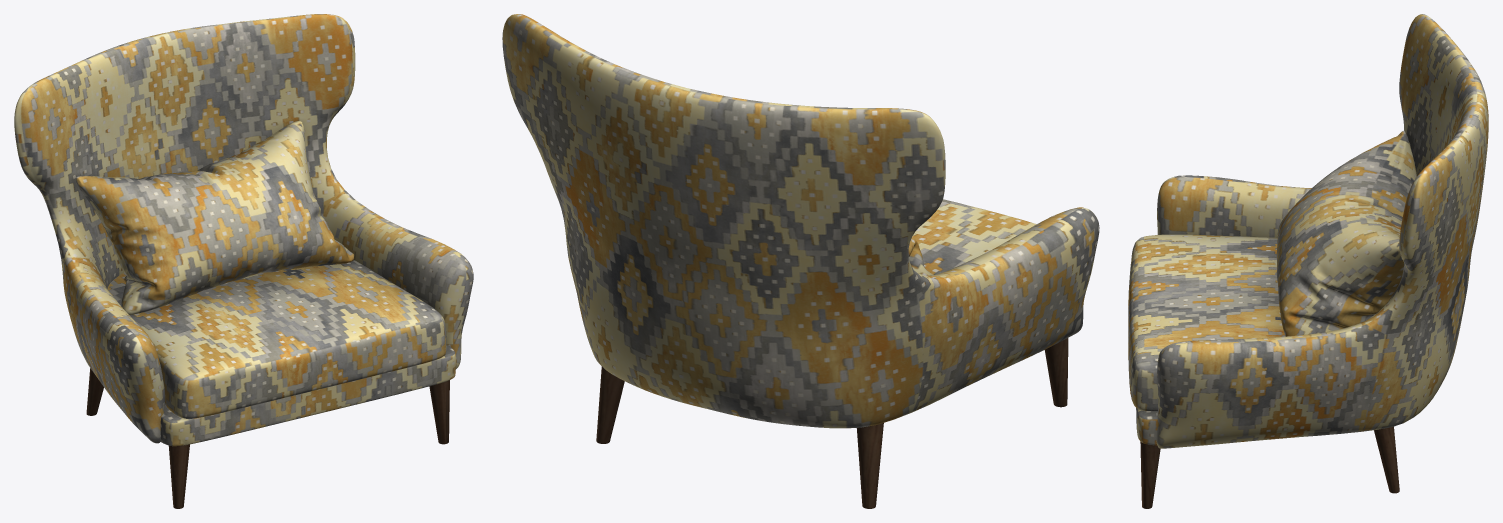
The model's file is sample3.glb.
3 views of the same model, side by side, from view 1: azimuth 30°, elevation 25°; view 2: azimuth 150°, elevation 25°; view 3: azimuth 270°, elevation 25° (orthographic). The views are drawn at different scales.
Parts seen in each view (by area): view 1: lambert1; view 2: lambert1; view 3: lambert1.
Boxes of the visible parts, x1,y1,x2,y2 form: lambert1: (14,14,473,508); lambert1: (502,14,1099,508); lambert1: (1128,14,1488,508).
Bounding box in the file's own units: 1 × 0.9 × 0.8497.
1 material, 1 textured.
